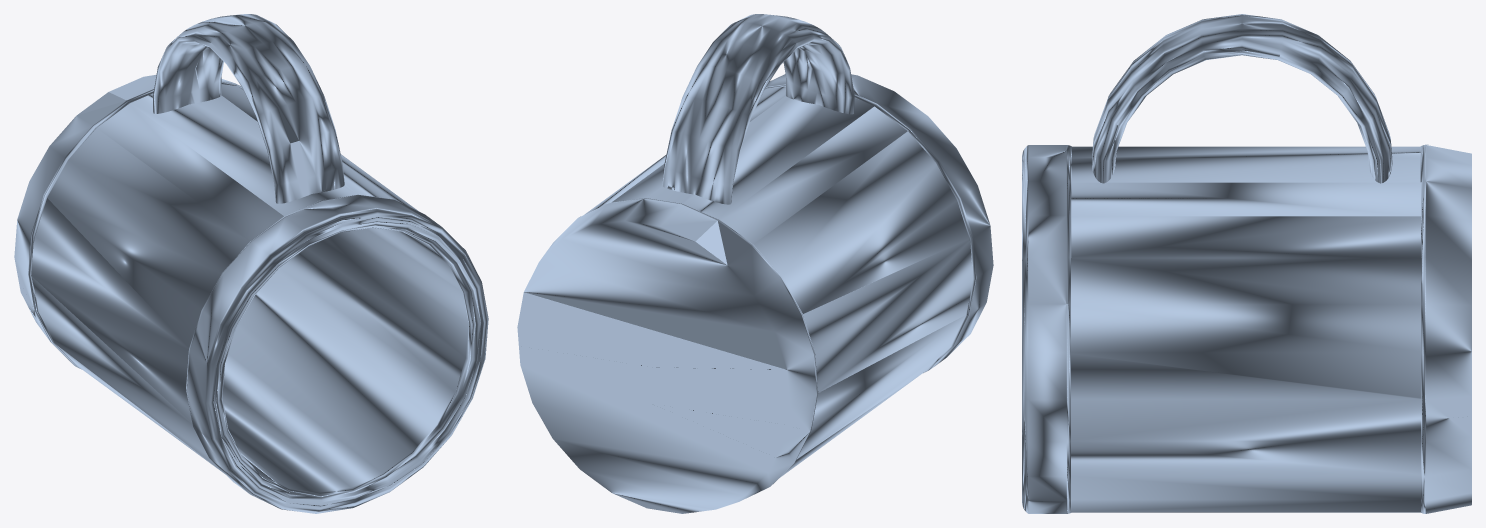
Rendered from model_align.obj.
3 renders of one model, left to right at view 1: azimuth 30°, elevation 25°; view 2: azimuth 150°, elevation 25°; view 3: azimuth 270°, elevation 25°, orthographic. The views are drawn at different scales.
Bounding box in the file's own units: 0.0749 × 0.1047 × 0.0906.
